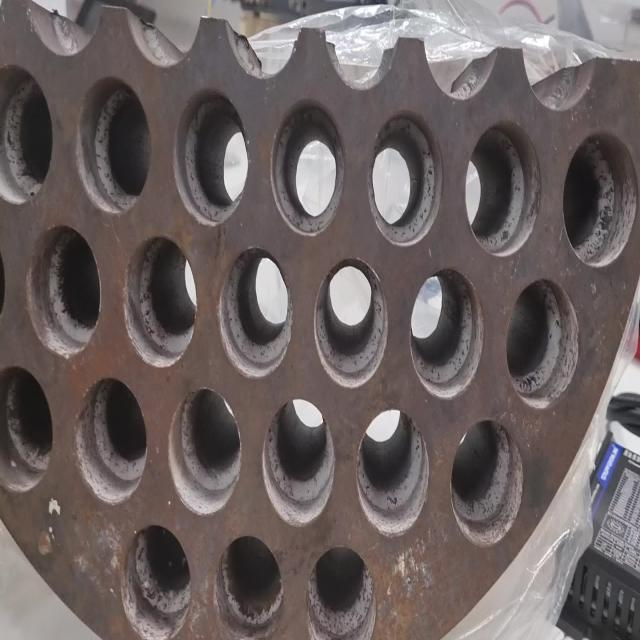Hole: (74, 74, 151, 216), (464, 120, 541, 257), (368, 109, 444, 247), (173, 88, 249, 226), (562, 130, 639, 266), (216, 245, 294, 379), (270, 98, 344, 236), (409, 264, 484, 400), (26, 223, 101, 359), (122, 234, 197, 368), (313, 256, 389, 388), (505, 278, 579, 410), (167, 386, 242, 516), (262, 397, 336, 527), (74, 375, 148, 505), (450, 418, 524, 548), (356, 408, 429, 537), (120, 522, 192, 640), (212, 534, 284, 639), (1, 64, 54, 206), (2, 362, 54, 494), (307, 544, 376, 640)
